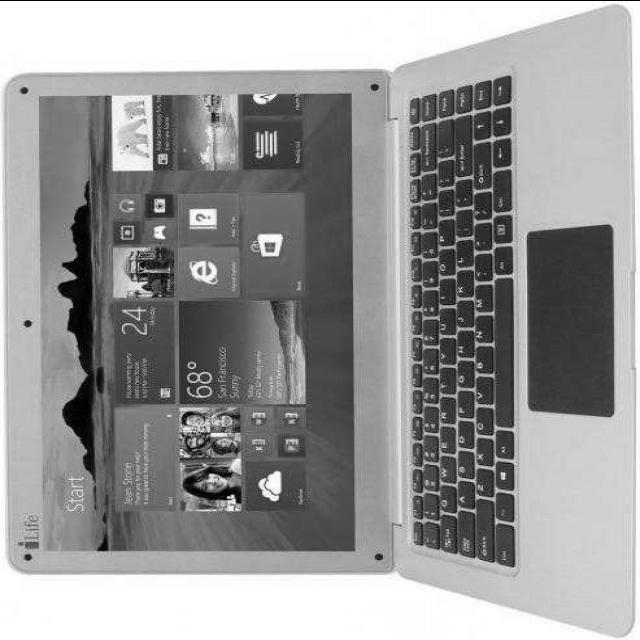laptop: (28, 8, 628, 612)
